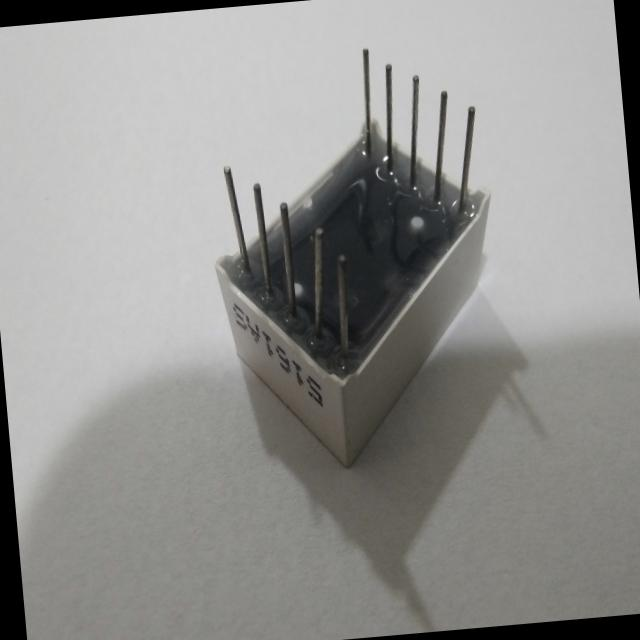7_segments: (180, 19, 525, 486)
